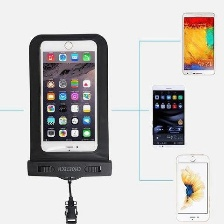phone: (37, 36, 103, 157), (146, 81, 189, 153), (173, 152, 211, 223), (179, 9, 218, 78)
